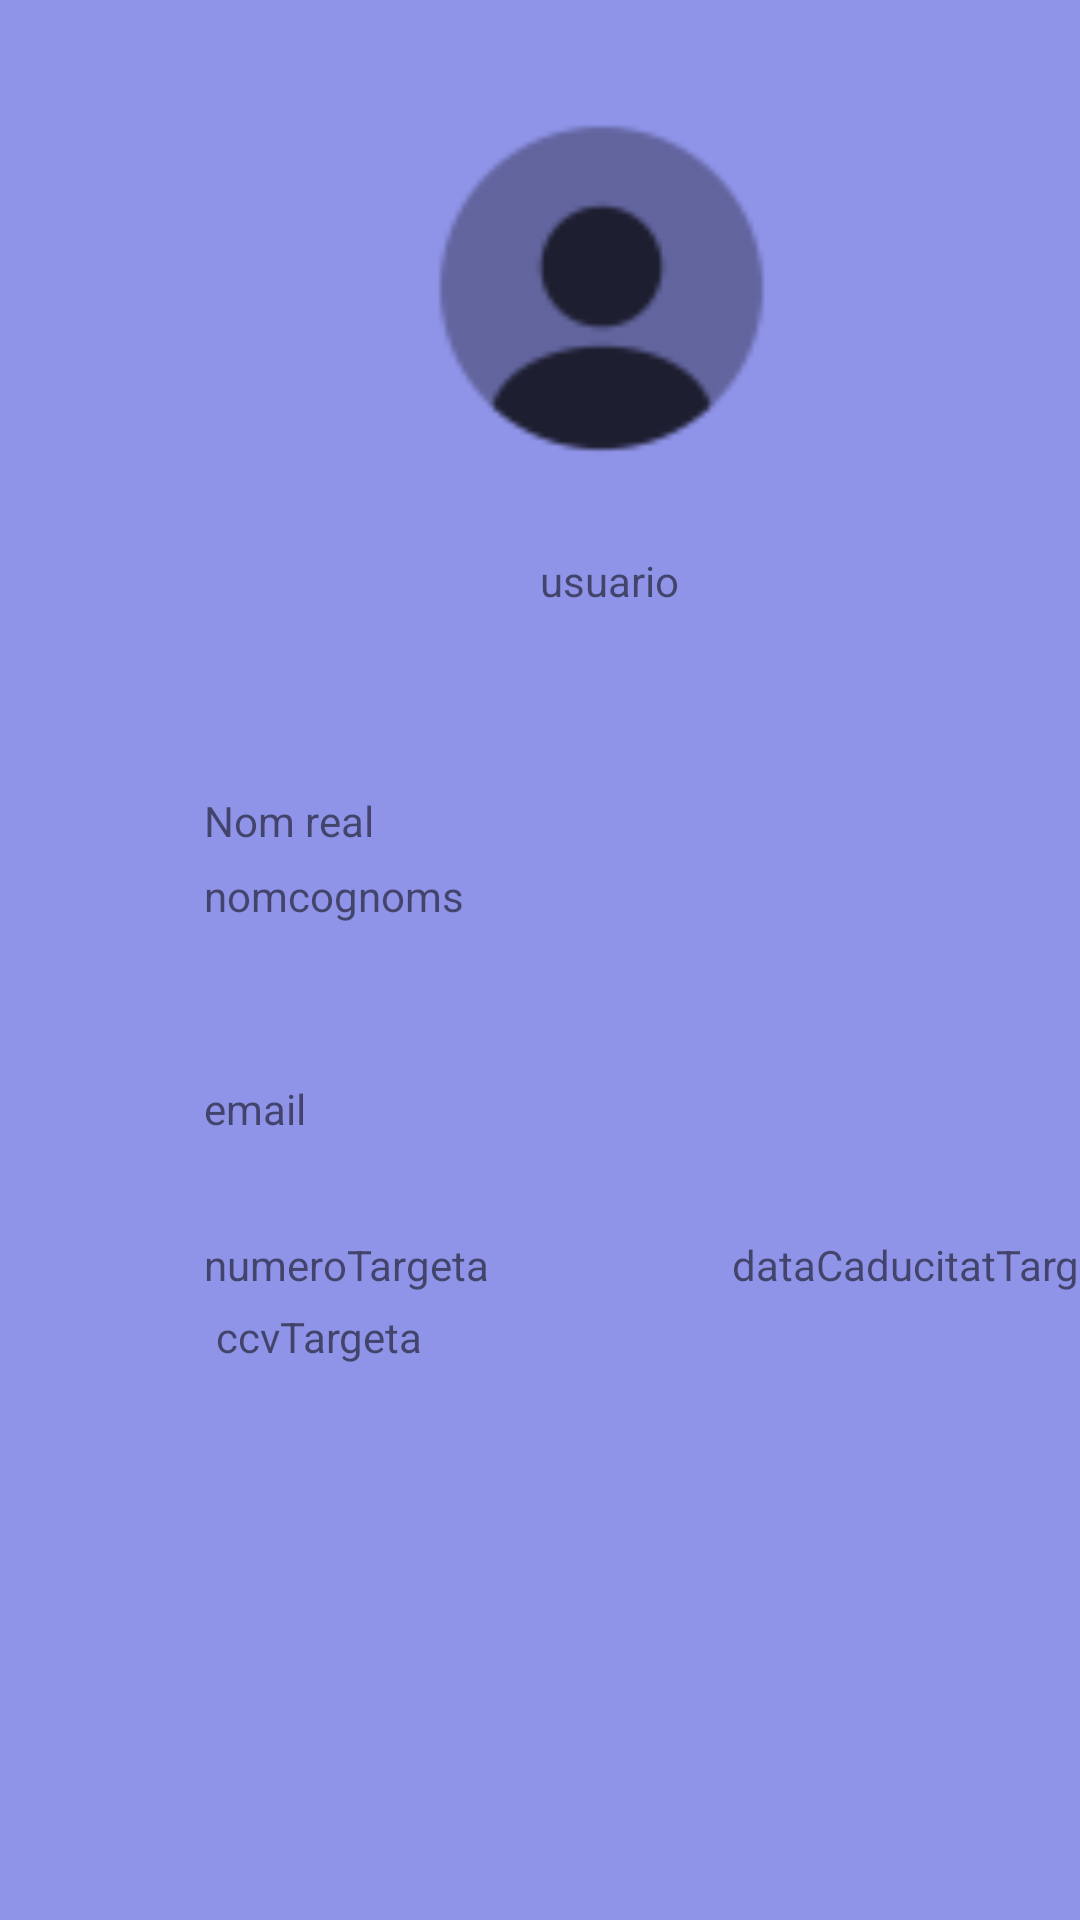

Where icons sit on this 1080px×1920px app screen, as bbox=(x1, y1, x2, y2):
profile: bbox=(439, 126, 764, 451)
